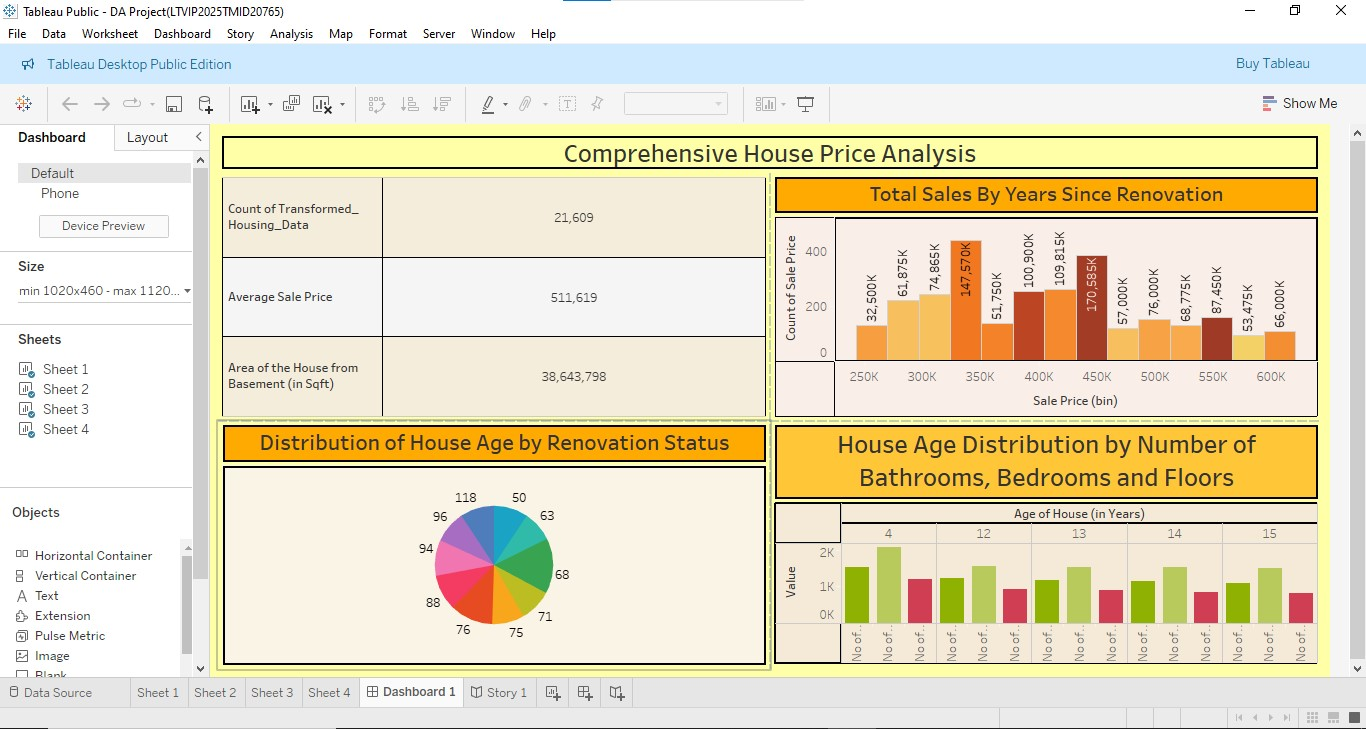

What the dashboard file says about the page in this screenshot:
{"tool":"tableau","page":{"name":"Dashboard 1","canvas":[1000,1000],"units":"permille","ordinal":0},"visuals":[{"type":"title","box":[7.1,14.5,985.7,74.1]},{"type":"worksheet","title":"Sheet 1","mark":"Automatic","box":[7.1,88.6,492.9,448.4]},{"type":"worksheet","title":"Sheet 2","mark":"Automatic","rows":["Sale_Price"],"cols":["Sale Price (bin)"],"box":[500,88.6,492.9,448.4]},{"type":"worksheet","title":"Sheet 3","mark":"Pie","box":[7.1,537.1,492.9,448.5]},{"type":"worksheet","title":"Sheet 4","mark":"Automatic","cols":["Age of House (in Years)"],"box":[500,537.1,492.9,448.5]}]}

Visuals, with their boxes on the dashboard's canvas, which has no fixed pixel size, in thousandths of its width and height (x1, y1, x2, y2). These are canvas units, not pixel positions in the 1366x729 screenshot, which may show the page scaled, cropped or inside an application window:
title: (x1=7, y1=14, x2=993, y2=89)
"Sheet 1" worksheet: (x1=7, y1=89, x2=500, y2=537)
"Sheet 2" worksheet: (x1=500, y1=89, x2=993, y2=537)
"Sheet 3" worksheet (Pie marks): (x1=7, y1=537, x2=500, y2=986)
"Sheet 4" worksheet: (x1=500, y1=537, x2=993, y2=986)
